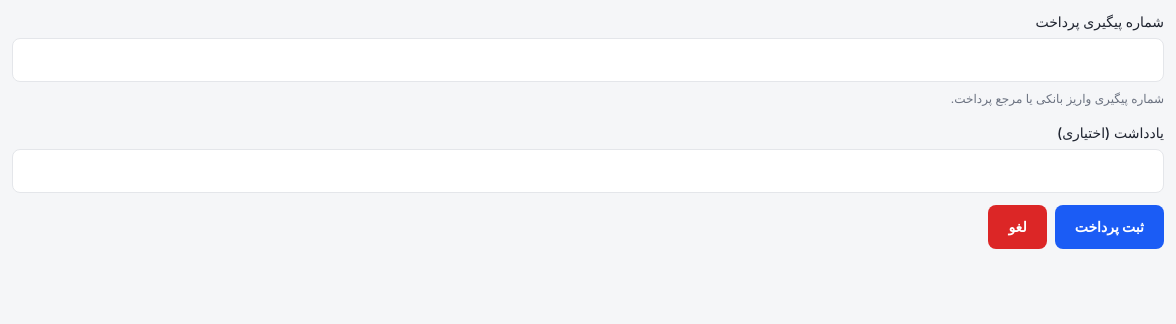
SettlementActions › cancels the batch only after confirmation
Click the button "لغو" at (1018, 227), box [988, 205, 1047, 249]
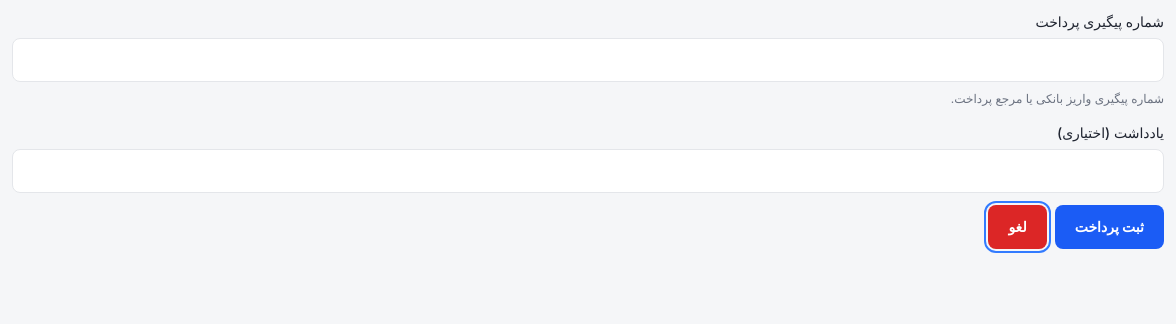
Click the button "لغو" at (1018, 227), box [988, 205, 1047, 249]
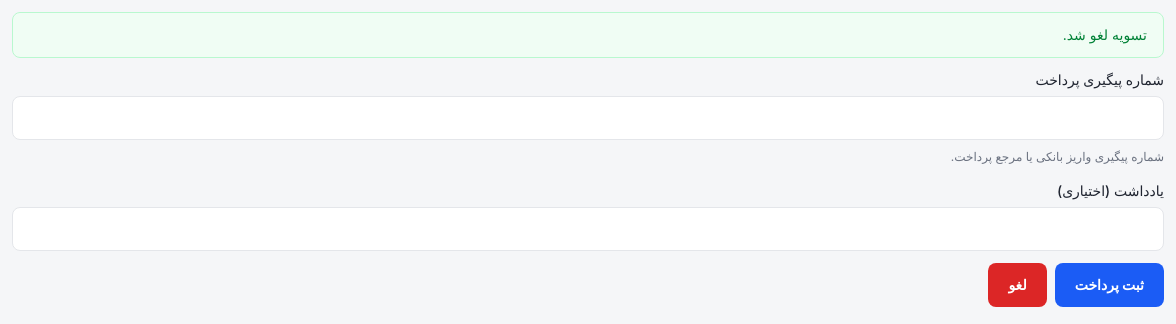
Expected: the text "تسویه لغو شد." is shown, [12, 12, 1164, 58]
